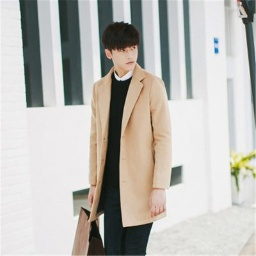face: (104, 22, 138, 73)
